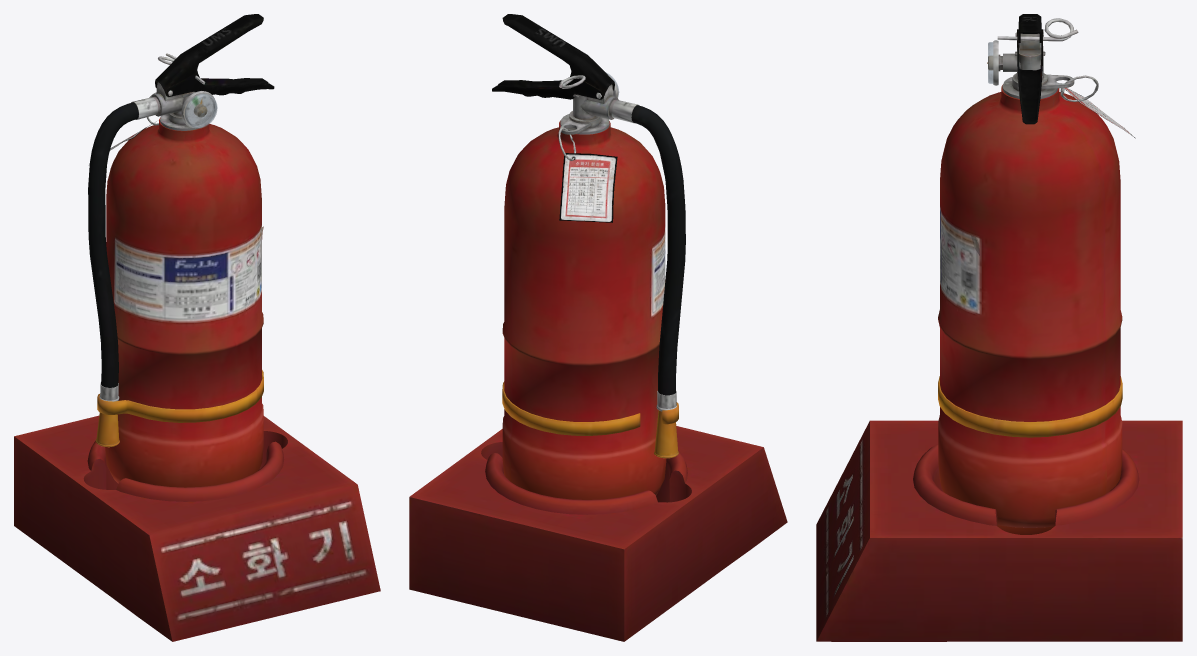
File: korean_fire_extinguisher_01.glb
The picture shows the model from 3 angles, left to right: view 1: azimuth 30°, elevation 25°; view 2: azimuth 150°, elevation 25°; view 3: azimuth 270°, elevation 25°; orthographic projection. The views are drawn at different scales.
Visible parts, largest first — view 1: korean_fire_extinguisher_01; view 2: korean_fire_extinguisher_01; view 3: korean_fire_extinguisher_01.
Boxes of the visible parts, <box> form: korean_fire_extinguisher_01: <box>14,14,380,641</box>; korean_fire_extinguisher_01: <box>409,14,787,641</box>; korean_fire_extinguisher_01: <box>816,14,1182,641</box>.
Bounding box in the file's own units: 0.2799 × 0.6591 × 0.3674.
3 materials, 3 textured.
